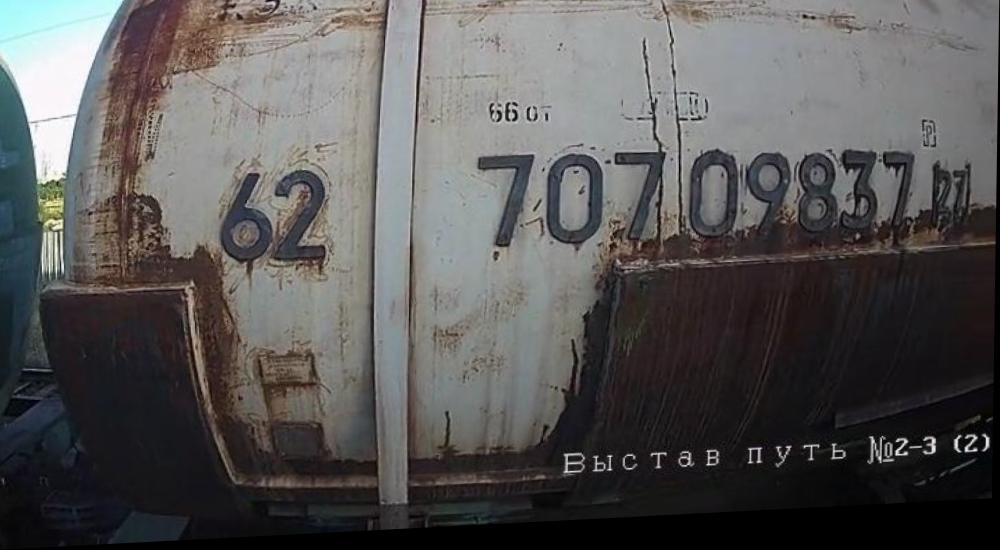Wagon-number: (475, 139, 922, 270)
